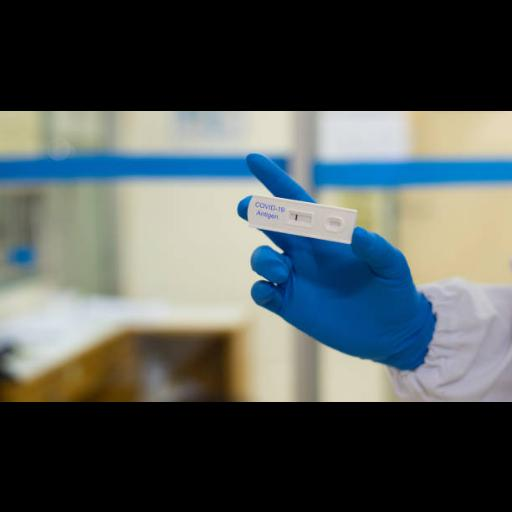Neg: (245, 192, 357, 243)
